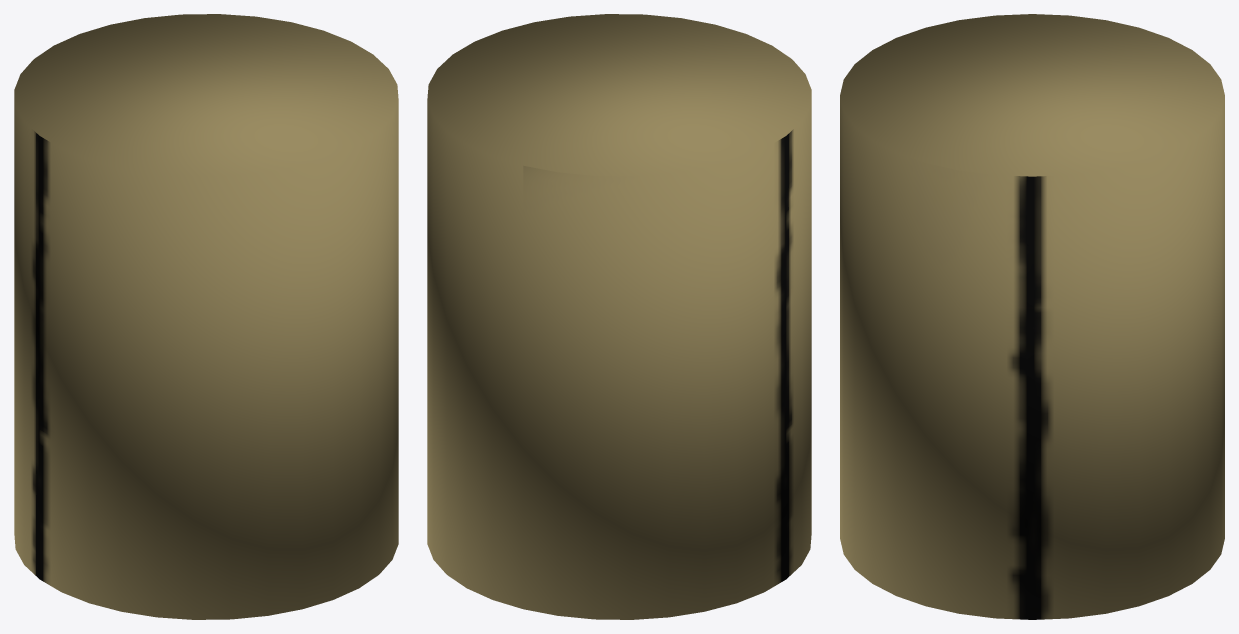
File: kobold_collider.obj
The picture shows the model from 3 angles, left to right: view 1: azimuth 30°, elevation 25°; view 2: azimuth 150°, elevation 25°; view 3: azimuth 270°, elevation 25°; orthographic projection.
Visible parts, largest first — view 1: Cylinder; view 2: Cylinder; view 3: Cylinder.
Part boxes in pixels (box(x1,y1,x2,y2)): Cylinder: box(14, 14, 398, 619); Cylinder: box(427, 14, 811, 619); Cylinder: box(840, 14, 1224, 619).
Size of the model in its own units: 2.1 by 2.67 by 2.1.
